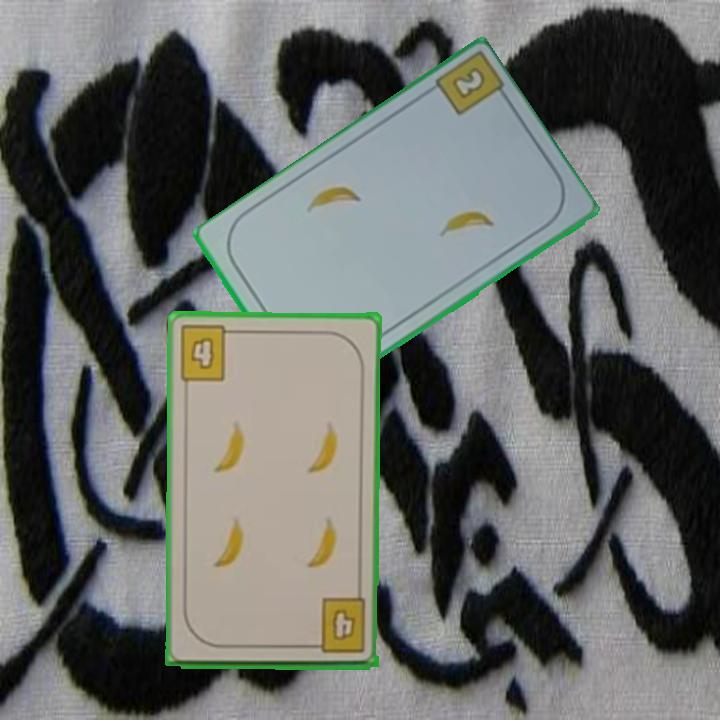2b: (448, 64, 489, 103)
4b: (175, 322, 240, 384), (305, 595, 368, 657)
